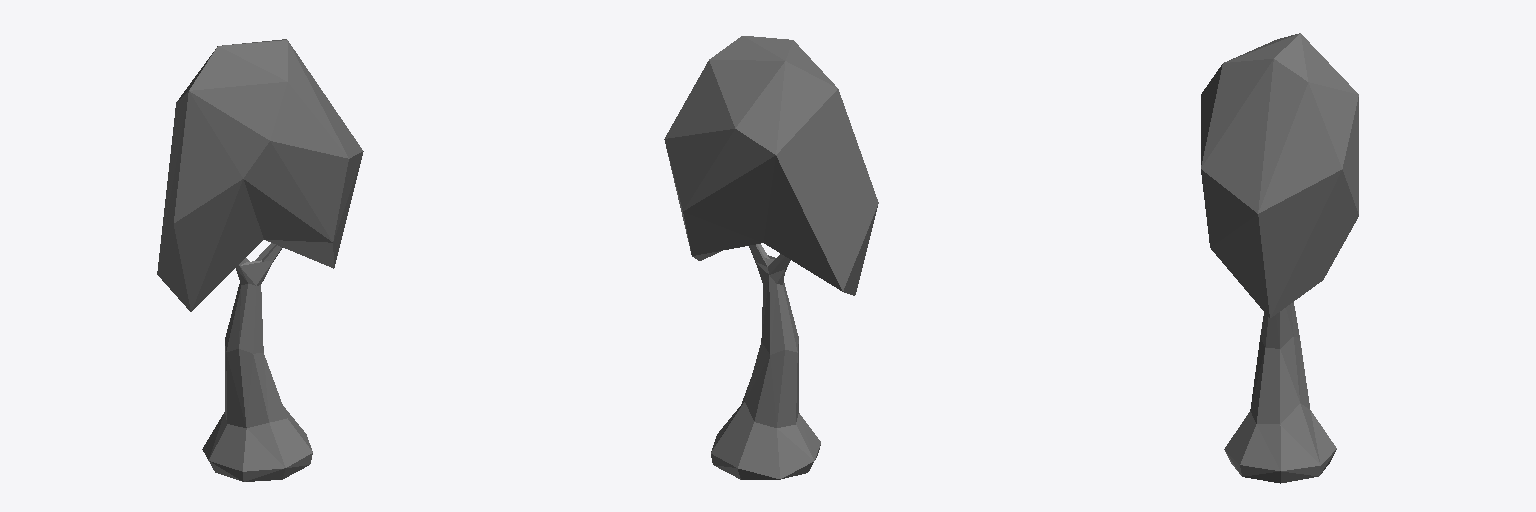
Rendered from tree1.obj.
3 views of the same model, side by side, from view 1: azimuth 30°, elevation 25°; view 2: azimuth 150°, elevation 25°; view 3: azimuth 270°, elevation 25° (orthographic).
Parts seen in each view (by area): view 1: Object_86; view 2: Object_86; view 3: Object_86.
Part boxes in pixels (x1,y1,x2,y2): Object_86: (157, 39, 363, 481); Object_86: (664, 36, 878, 479); Object_86: (1201, 33, 1358, 483).
Bounding box in the file's own units: 26.38 × 55.12 × 18.74.